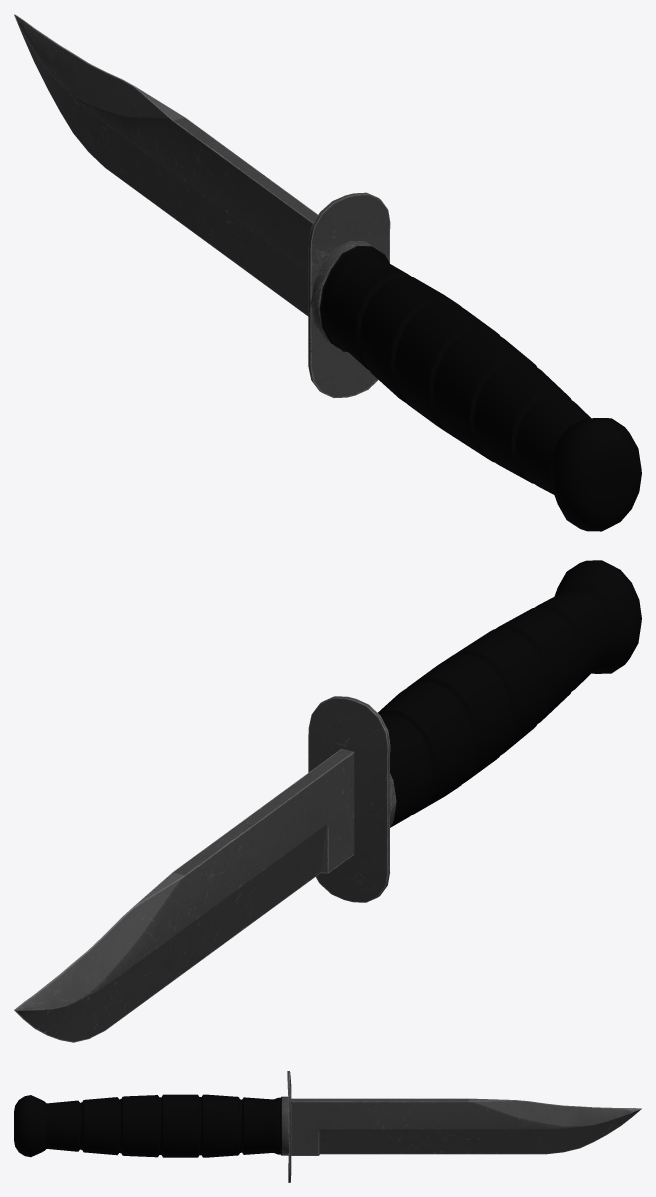
Rendered from couteau.glb.
The picture shows the model from 3 angles, top to bottom: view 1: azimuth 30°, elevation 25°; view 2: azimuth 150°, elevation 25°; view 3: azimuth 270°, elevation 25°; orthographic projection. The views are drawn at different scales.
Visible parts, largest first — view 1: Combat_Knife; view 2: Combat_Knife; view 3: Combat_Knife.
Part boxes in pixels (box(x1,y1,x2,y2)): Combat_Knife: box(14, 14, 641, 531); Combat_Knife: box(14, 560, 641, 1042); Combat_Knife: box(14, 1071, 641, 1182).
Bounding box in the file's own units: 0.024 × 0.0552 × 0.2972.
1 material, 1 textured.
